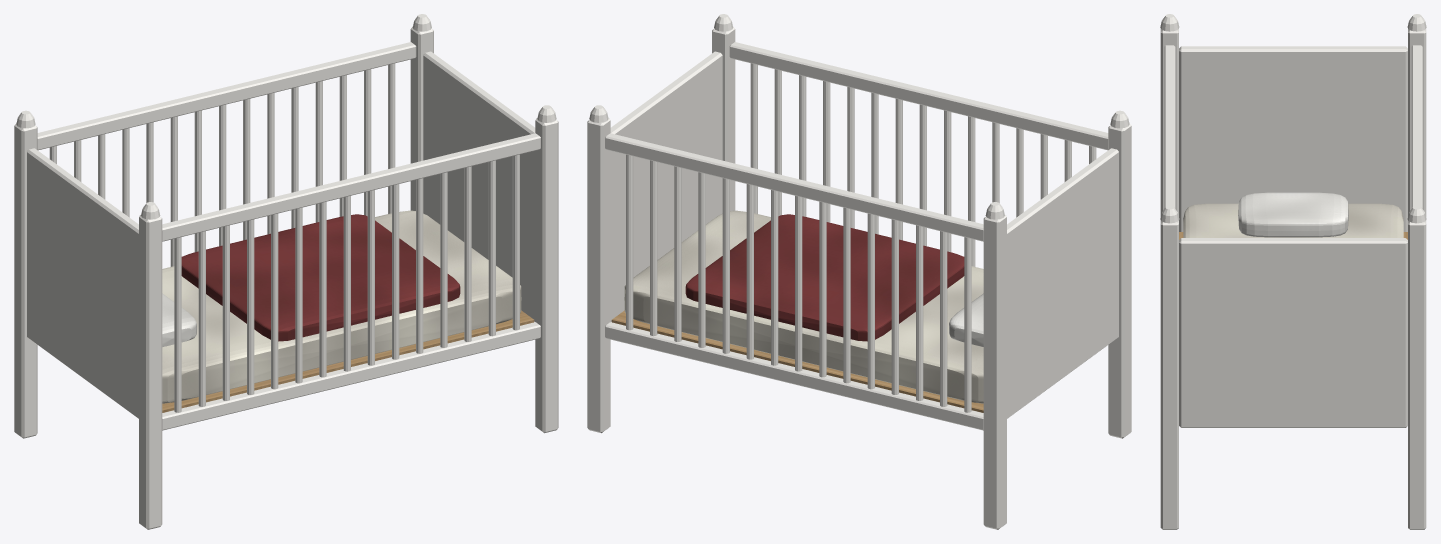
Rendered from berco.glb.
3 renders of one model, left to right at view 1: azimuth 30°, elevation 25°; view 2: azimuth 150°, elevation 25°; view 3: azimuth 270°, elevation 25°, orthographic.
Visible parts, largest first — view 1: berco_madeira_branca, berco_cobertor, berco_colchao, berco_madeira_crua, berco_travesseiro; view 2: berco_madeira_branca, berco_cobertor, berco_colchao, berco_madeira_crua, berco_travesseiro; view 3: berco_madeira_branca, berco_travesseiro, berco_colchao.
Part boxes in pixels (x1,y1,x2,y2): berco_madeira_branca: [14, 14, 558, 529]; berco_cobertor: [181, 214, 460, 341]; berco_colchao: [162, 210, 521, 403]; berco_madeira_crua: [162, 310, 534, 412]; berco_travesseiro: [162, 293, 196, 346]; berco_madeira_branca: [587, 14, 1131, 529]; berco_cobertor: [685, 214, 964, 341]; berco_colchao: [624, 210, 983, 403]; berco_madeira_crua: [611, 310, 983, 412]; berco_travesseiro: [949, 293, 983, 346]; berco_madeira_branca: [1160, 14, 1426, 529]; berco_travesseiro: [1238, 192, 1348, 237]; berco_colchao: [1183, 203, 1403, 237].
Size of the model in its own units: 1.28 by 0.955 by 0.722.
5 materials, 4 textured.
